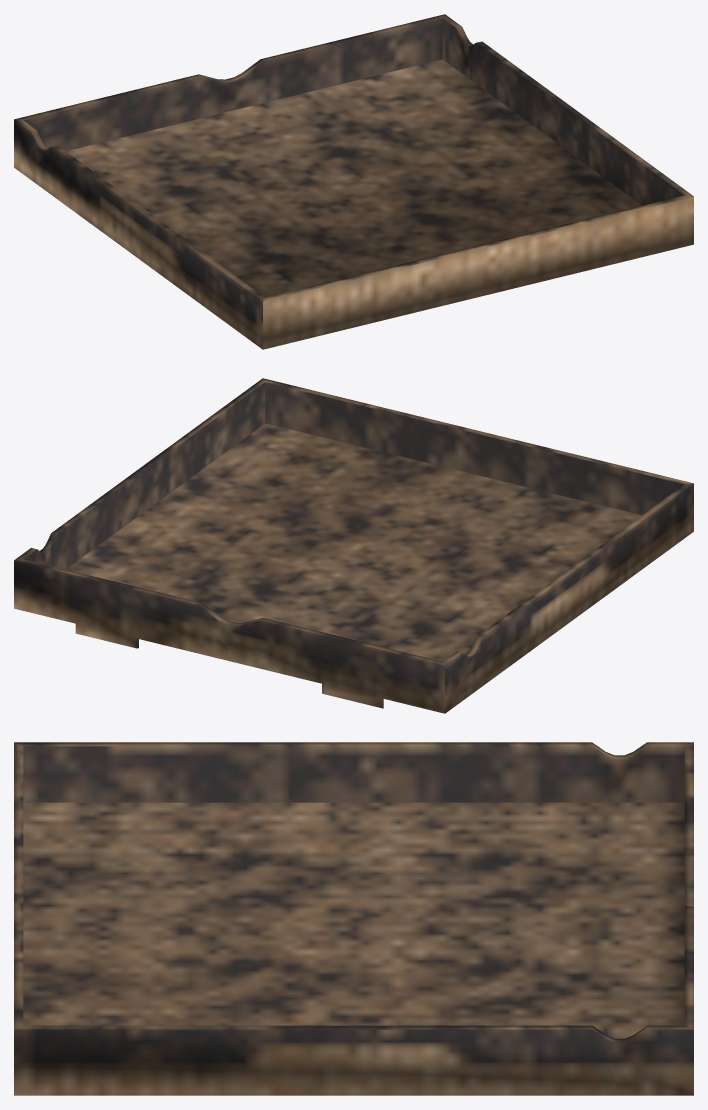
File: pizza-bottom.fbx
3 views of the same model, one above another, from view 1: azimuth 30°, elevation 25°; view 2: azimuth 150°, elevation 25°; view 3: azimuth 270°, elevation 25° (orthographic). The views are drawn at different scales.
Parts seen in each view (by area): view 1: Pizza-Bottom; view 2: Pizza-Bottom; view 3: Pizza-Bottom.
Part boxes in pixels (x1=…): Pizza-Bottom: x1=14, y1=14, x2=693, y2=349; Pizza-Bottom: x1=14, y1=378, x2=693, y2=713; Pizza-Bottom: x1=14, y1=742, x2=693, y2=1095.
Bounding box in the file's own units: 200 × 25.78 × 200.
1 material, 1 textured.
